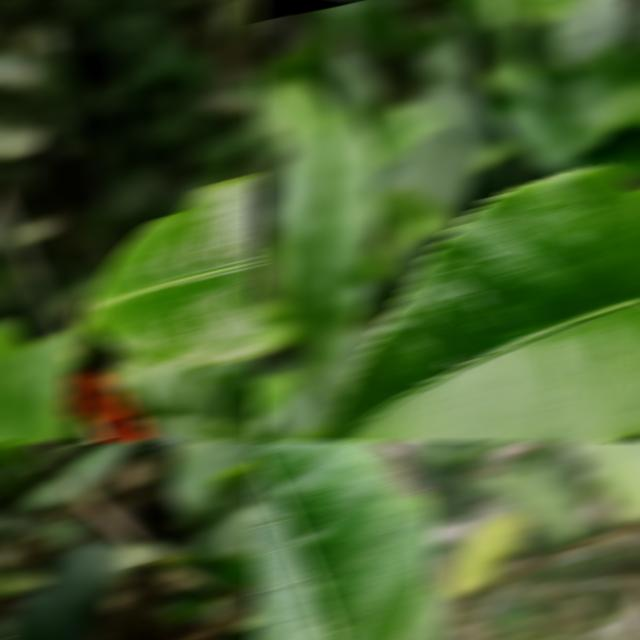Leaf: (322, 169, 640, 440), (252, 442, 435, 639), (82, 176, 260, 364), (271, 112, 383, 373), (108, 357, 260, 440), (7, 542, 122, 639), (489, 444, 589, 541), (0, 321, 77, 440), (561, 47, 640, 153), (568, 442, 640, 518), (367, 103, 454, 165), (268, 77, 337, 152), (381, 189, 457, 257), (60, 442, 136, 490), (252, 373, 298, 440), (252, 300, 303, 360), (20, 477, 78, 508), (0, 53, 38, 88)
